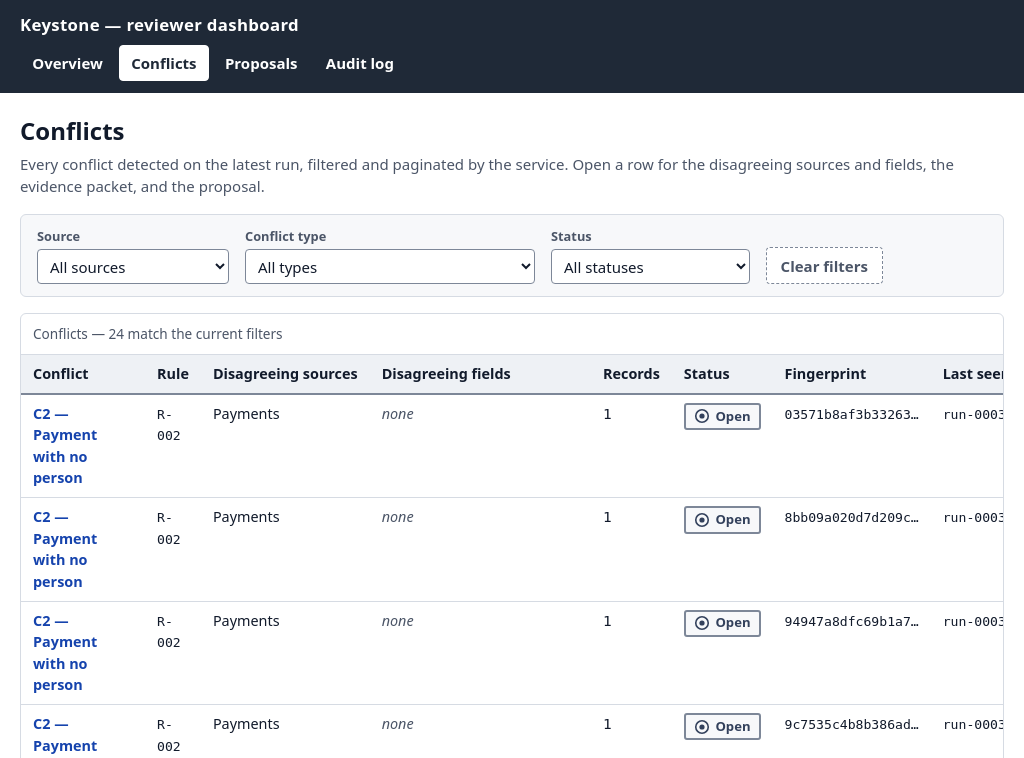
/conflicts — filtering › says so plainly when nothing matches
The image size is (1024, 758).
Select "C13 — Refund not reflected" in the dropdown labelled "Conflict type" at [390, 267], box x1=245 y1=249 x2=535 y2=284
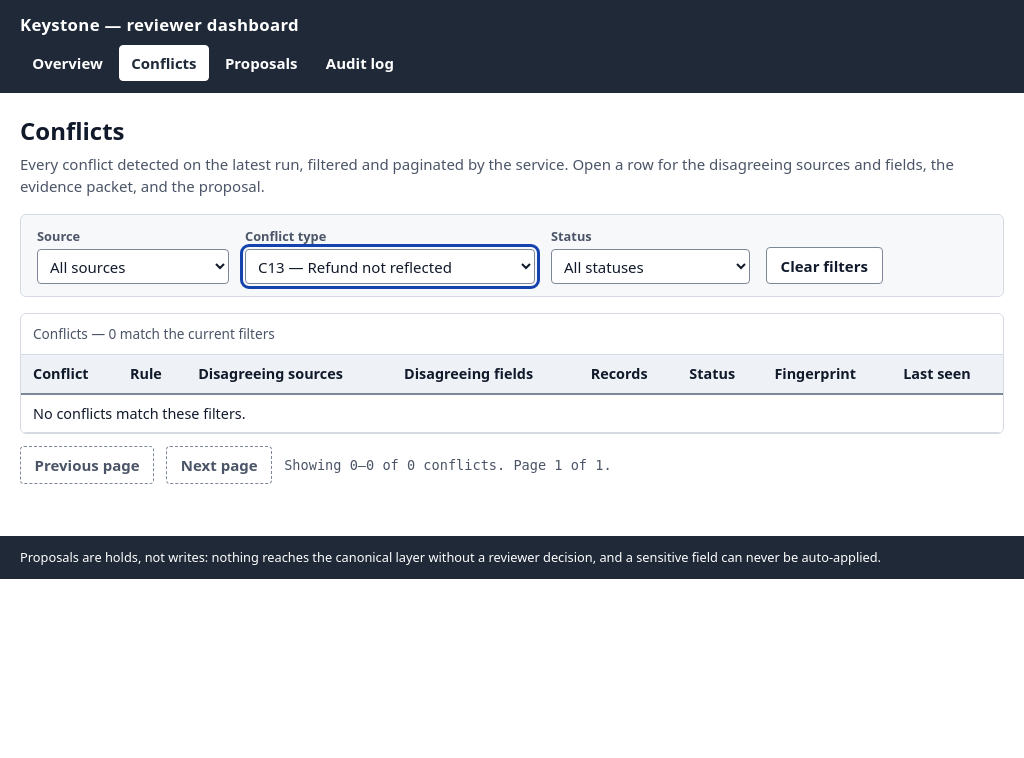
Now the text "No conflicts match these filters." is shown, box x1=21 y1=394 x2=1003 y2=433
